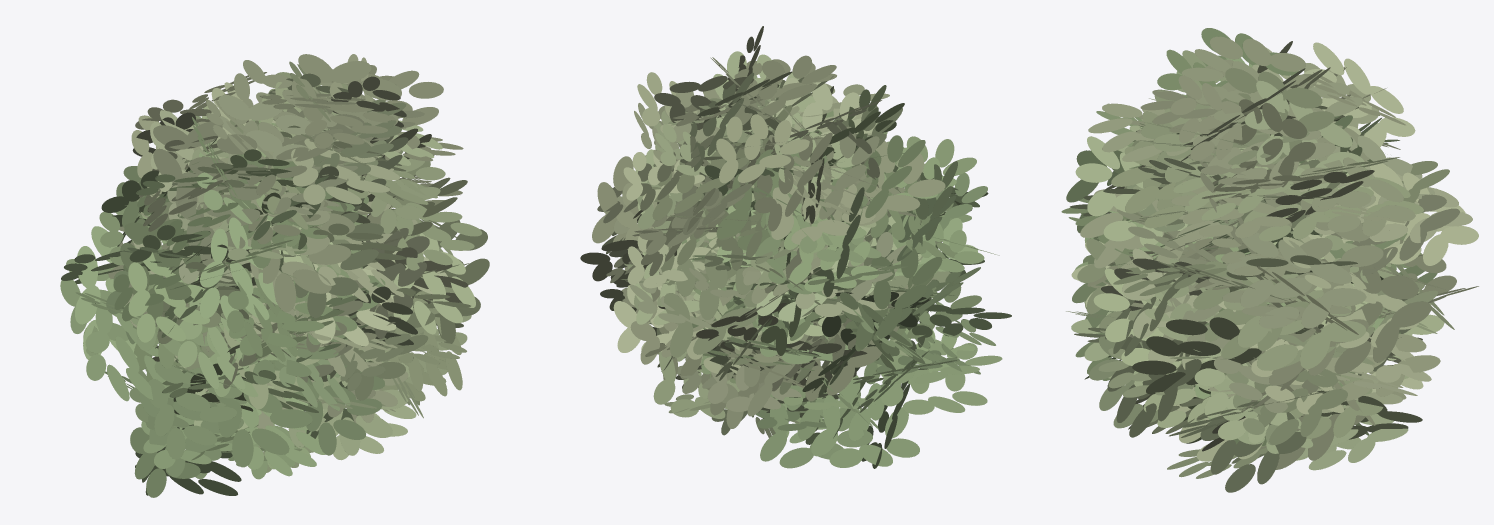
Rendered from campus-tree-6_-1-near.glb.
3 renders of one model, left to right at view 1: azimuth 30°, elevation 25°; view 2: azimuth 150°, elevation 25°; view 3: azimuth 270°, elevation 25°, orthographic. The views are drawn at different scales.
Parts seen in each view (by area): view 1: Campus leaf canopy; view 2: Campus leaf canopy; view 3: Campus leaf canopy.
Boxes of the visible parts, x1,y1,x2,y2 form: Campus leaf canopy: (60, 54, 489, 497); Campus leaf canopy: (580, 26, 1011, 468); Campus leaf canopy: (1061, 28, 1478, 492).
Bounding box in the file's own units: 4.86 × 4.89 × 3.89.
Materials: 1 (1 with a texture image).
